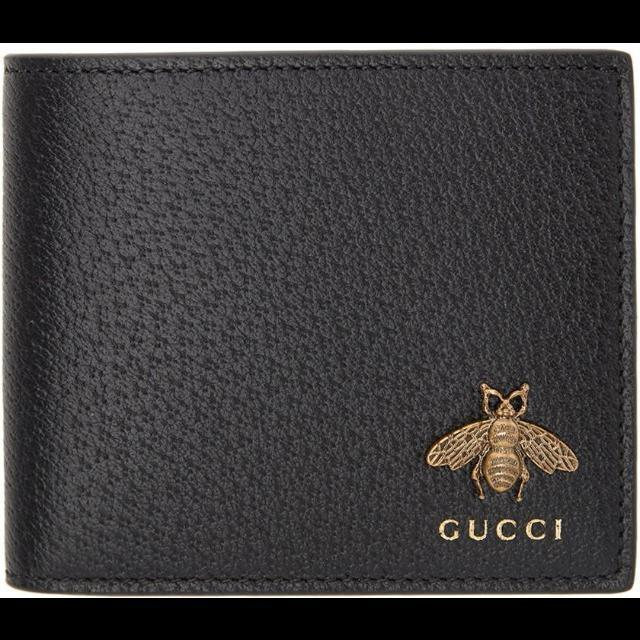Wallet: (7, 53, 635, 592)
